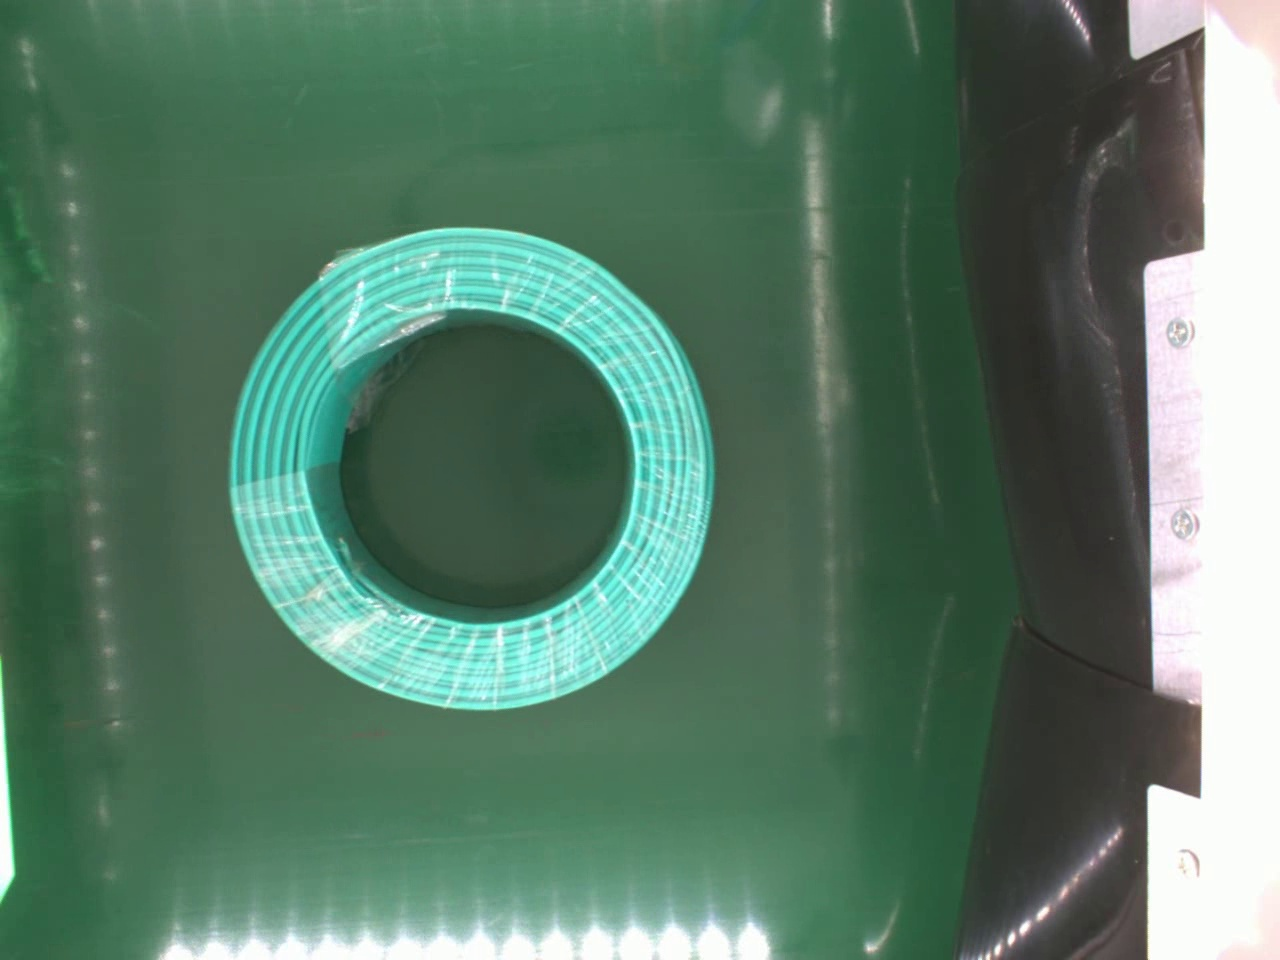green: (226, 220, 718, 715)
